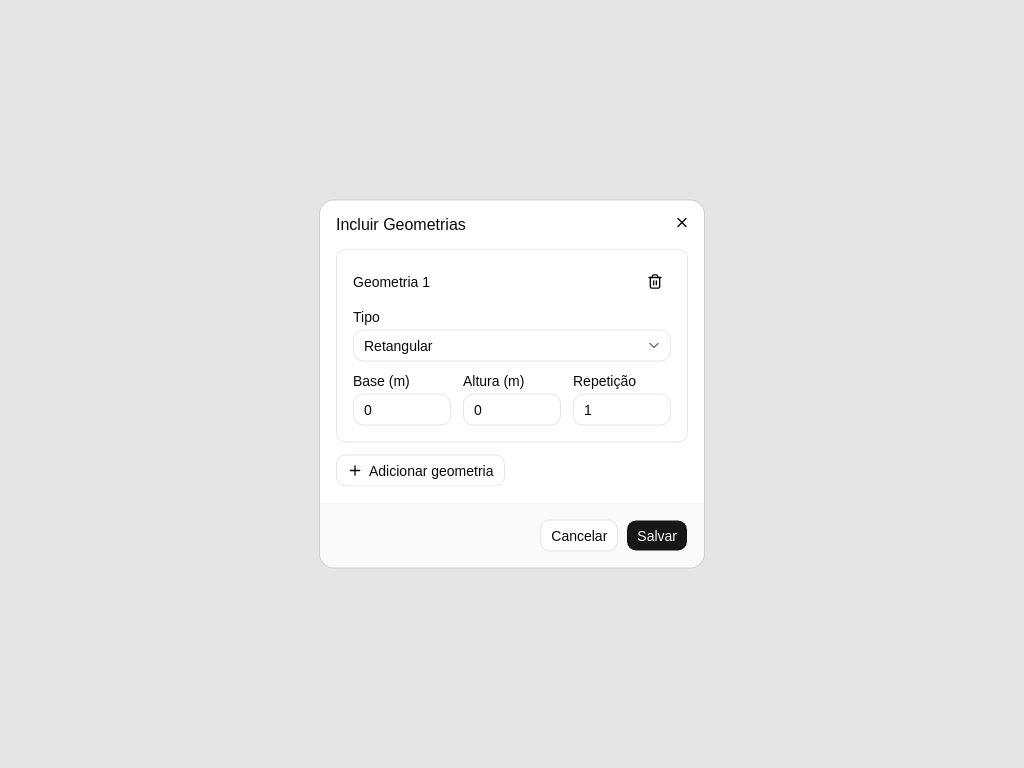
ModalGeometrias (UC08/UC09-FE) › não submete sem nenhuma geometria (min 1) e mantém o modal aberto
The width and height of the screenshot is (1024, 768).
Click the button named "Remover geometria 1". click: {"x": 655, "y": 282}
box: [639, 266, 671, 298]
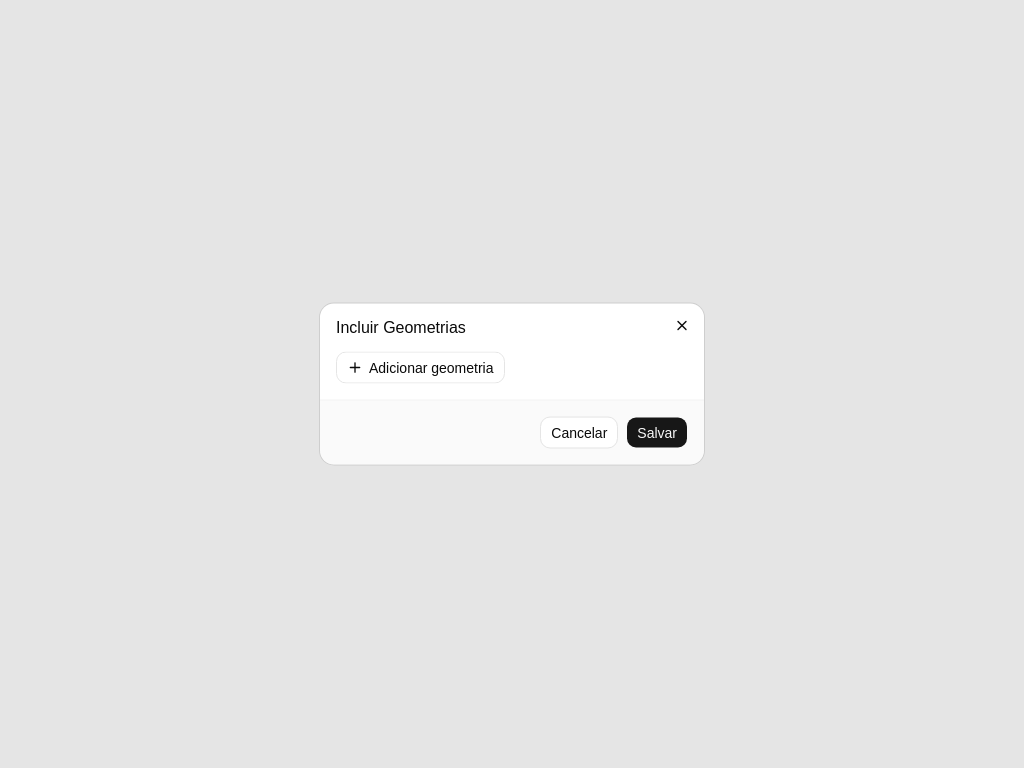
Click the button "Salvar". click: {"x": 657, "y": 432}
box: [626, 416, 688, 448]
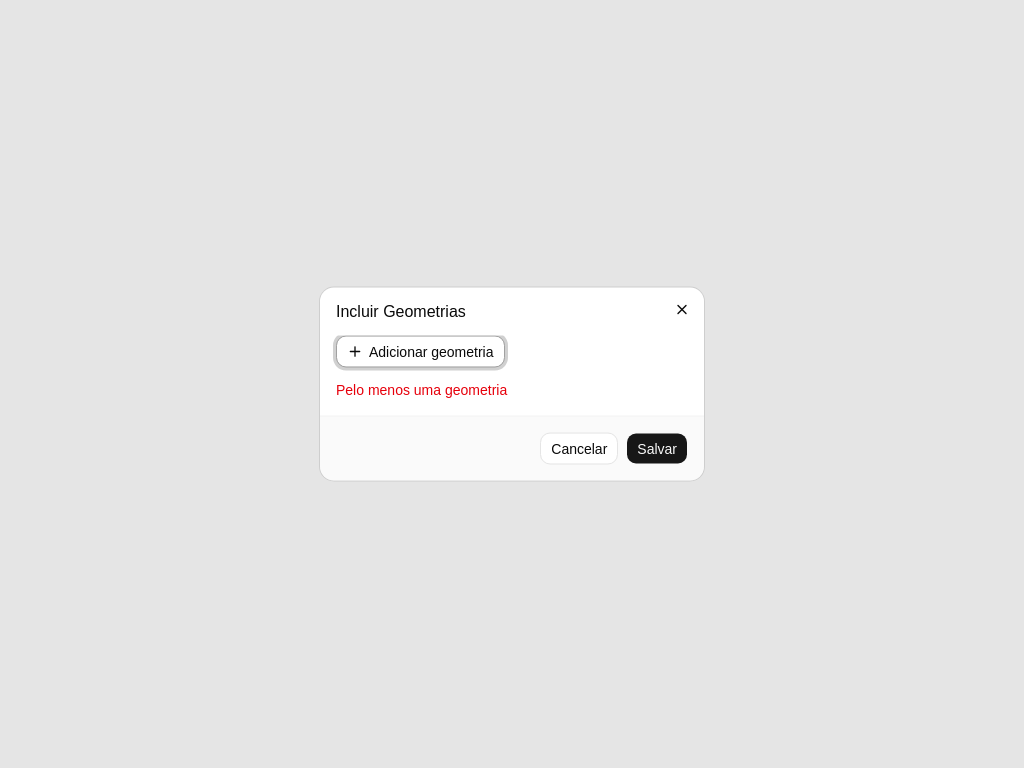
Check: the heading "Incluir Geometrias" is shown, box [336, 302, 466, 320]
Check: the message "Pelo menos uma geometria" is shown, box [336, 382, 507, 398]
